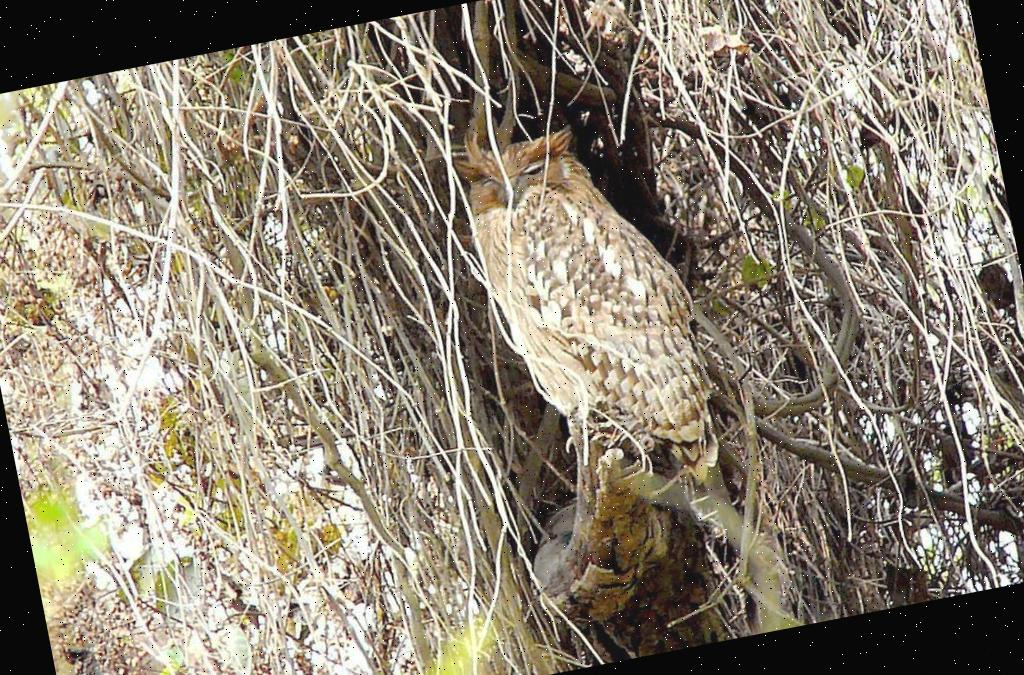Owl: (442, 96, 734, 526)
